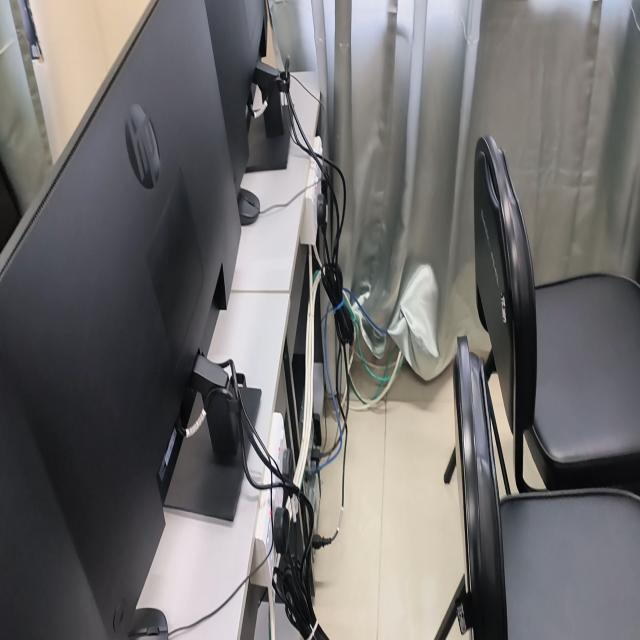Chair: (474, 137, 640, 494), (454, 338, 640, 639)
Monitor: (0, 0, 257, 639), (205, 0, 264, 190)
Mouse: (128, 608, 168, 639), (238, 188, 260, 225)
